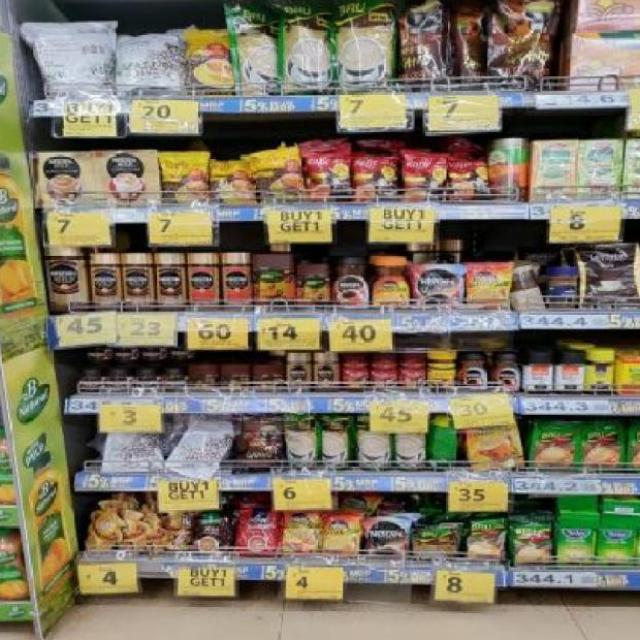Coffee: (46, 245, 86, 309), (470, 428, 523, 470), (413, 266, 461, 309), (467, 265, 509, 308), (334, 259, 369, 309), (365, 519, 407, 559), (375, 258, 409, 307), (123, 255, 152, 311), (91, 254, 119, 309), (322, 515, 359, 555), (157, 255, 183, 310), (286, 512, 319, 554), (494, 355, 521, 391), (461, 355, 488, 389), (287, 354, 311, 392), (313, 354, 338, 390), (136, 371, 158, 392), (106, 372, 130, 391), (162, 372, 186, 390), (82, 372, 102, 391), (86, 347, 108, 363), (114, 348, 137, 362), (141, 348, 164, 362), (169, 349, 193, 361)
